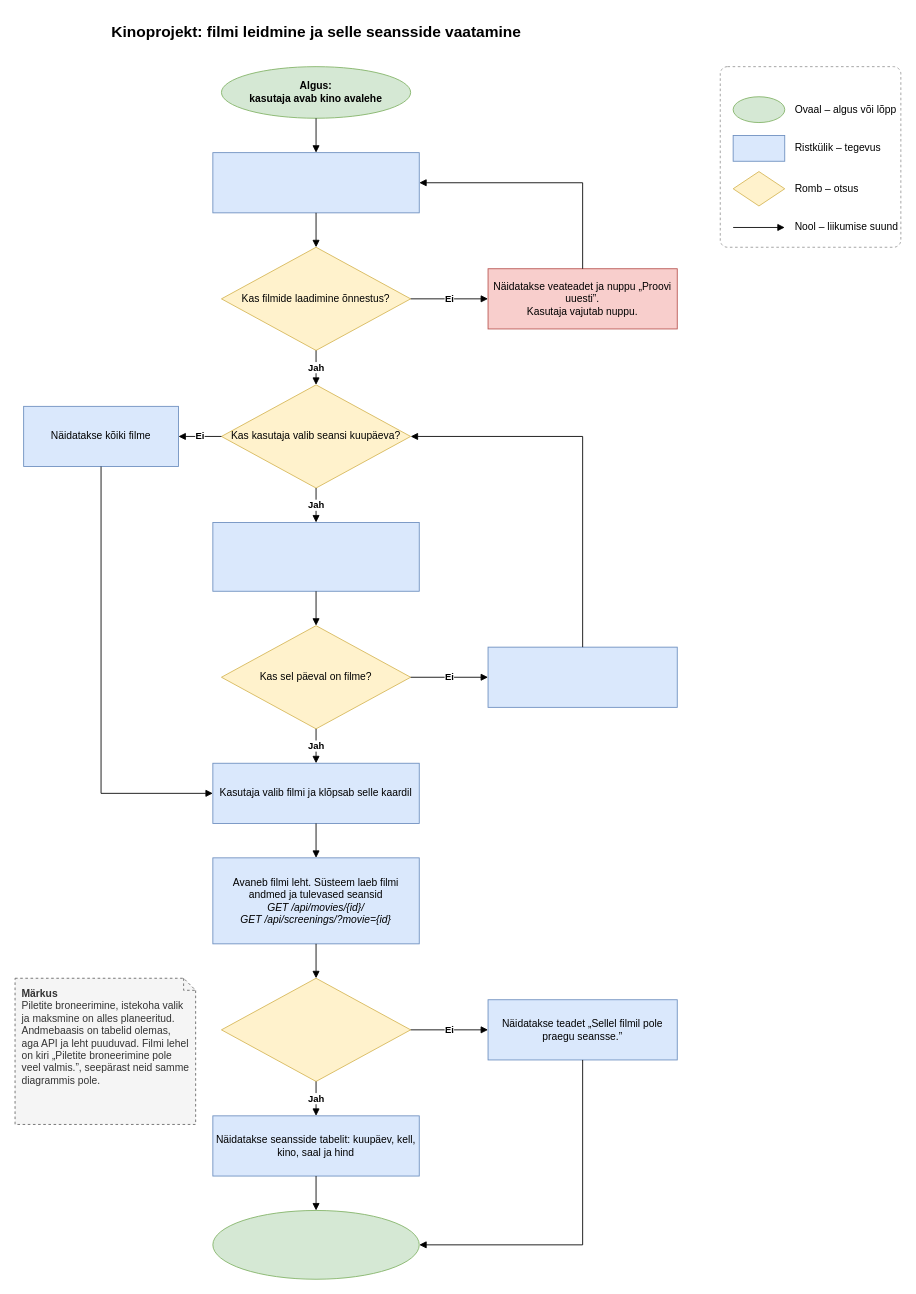
The diagram is 916 pixels wide and 1294 high, and some of its shapes have lost their labels. The shapes that lost their labels are listed below. From the top down, each one's box as (x1, y1, x2, y2) in pixels, then its label:
(719, 66, 901, 247): Sümbolid
(212, 152, 419, 213): Süsteem laeb filmide nimekirja GET /api/movies/
(212, 522, 419, 591): Süsteem otsib filmid, millel on sel päeval seanss GET /api/movies/?date=…
(487, 646, 677, 707): Näidatakse teadet „Seansse pole. Vali teine kuupäev.”
(221, 977, 411, 1081): Kas filmil on tulevasi seansse?
(212, 1210, 419, 1279): Lõpp: kasutaja on filmi andmed ja seansid üle vaadanud
